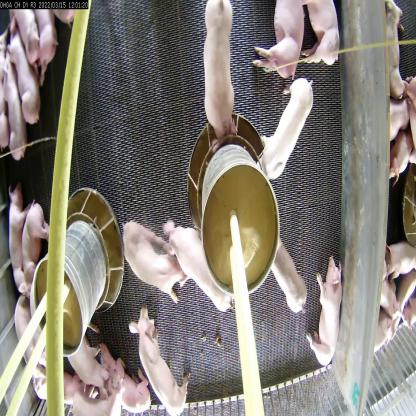Pig: (161, 208, 245, 333), (258, 69, 318, 190), (120, 216, 197, 306), (133, 308, 194, 415), (205, 0, 242, 144), (318, 242, 346, 369), (270, 219, 308, 311), (2, 183, 32, 283), (6, 32, 40, 120), (24, 196, 52, 286), (310, 0, 342, 70), (386, 0, 408, 101)
